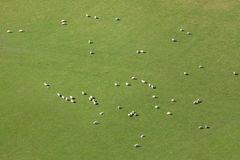sheep: (195, 62, 207, 71), (190, 97, 202, 106), (204, 124, 215, 133), (165, 109, 174, 118), (147, 82, 157, 90), (183, 70, 190, 81), (178, 26, 187, 34), (88, 96, 97, 104), (153, 103, 161, 111), (195, 123, 202, 132), (131, 112, 140, 119), (171, 36, 178, 44), (137, 48, 145, 55), (89, 50, 97, 57), (139, 133, 146, 141), (62, 16, 67, 26), (125, 81, 133, 87), (6, 27, 14, 33), (128, 109, 133, 118), (170, 97, 176, 104), (129, 75, 136, 81), (86, 38, 93, 44), (93, 98, 100, 104), (134, 143, 141, 149), (93, 120, 101, 125), (152, 93, 158, 99), (115, 81, 121, 87), (81, 90, 87, 96), (61, 95, 67, 101), (186, 29, 191, 35), (141, 79, 147, 84), (98, 108, 103, 114), (20, 28, 25, 33), (55, 90, 59, 96), (113, 17, 120, 20), (233, 70, 237, 75), (86, 13, 90, 17), (71, 98, 75, 102), (44, 83, 48, 87), (94, 16, 98, 19), (119, 106, 122, 109), (71, 95, 74, 98)
